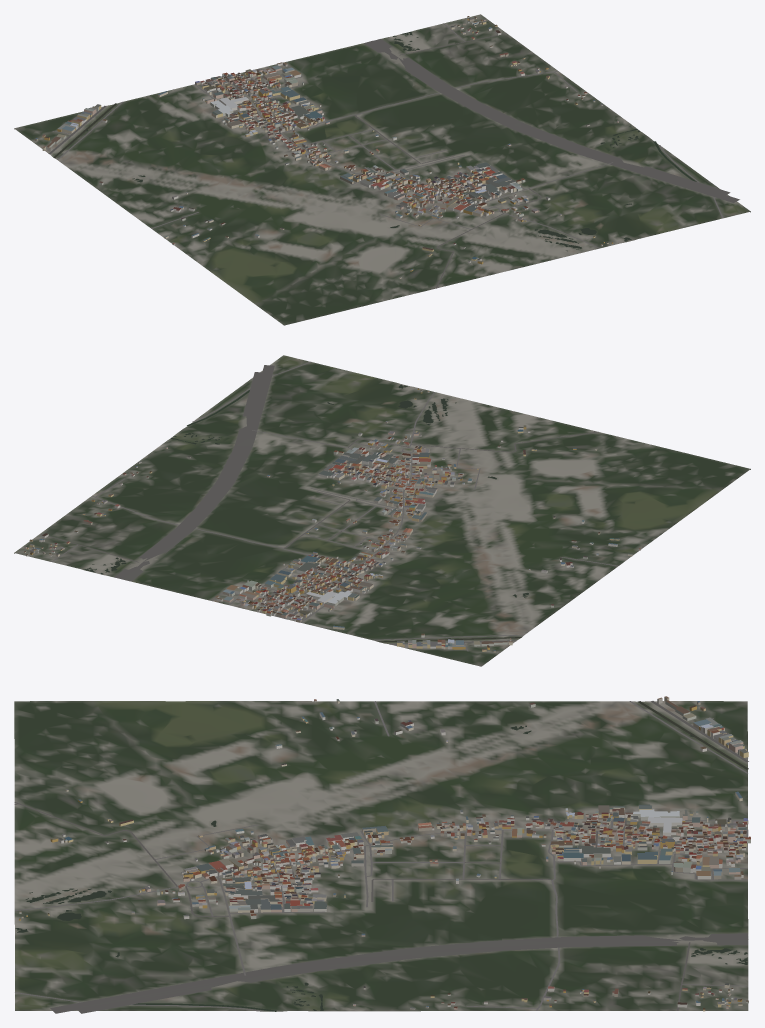
The picture shows the model from 3 angles, top to bottom: view 1: azimuth 30°, elevation 25°; view 2: azimuth 150°, elevation 25°; view 3: azimuth 270°, elevation 25°; orthographic projection. The views are drawn at different scales.
Parts seen in each view (by area): view 1: ground, buildings, roads, water; view 2: ground, buildings, roads, water; view 3: ground, buildings, roads, water.
Boxes of the visible parts, x1=… form: ground: x1=14, y1=14, x2=750, y2=325; buildings: x1=35, y1=16, x2=618, y2=278; roads: x1=48, y1=23, x2=739, y2=288; water: x1=53, y1=31, x2=696, y2=251; ground: x1=14, y1=355, x2=750, y2=666; buildings: x1=23, y1=388, x2=641, y2=652; roads: x1=40, y1=362, x2=618, y2=651; water: x1=84, y1=384, x2=528, y2=642; ground: x1=14, y1=701, x2=748, y2=1011; buildings: x1=19, y1=696, x2=750, y2=1011; roads: x1=14, y1=701, x2=748, y2=1013; water: x1=15, y1=701, x2=748, y2=1011.
Size of the model in its own units: 1419 by 17.63 by 1409.
